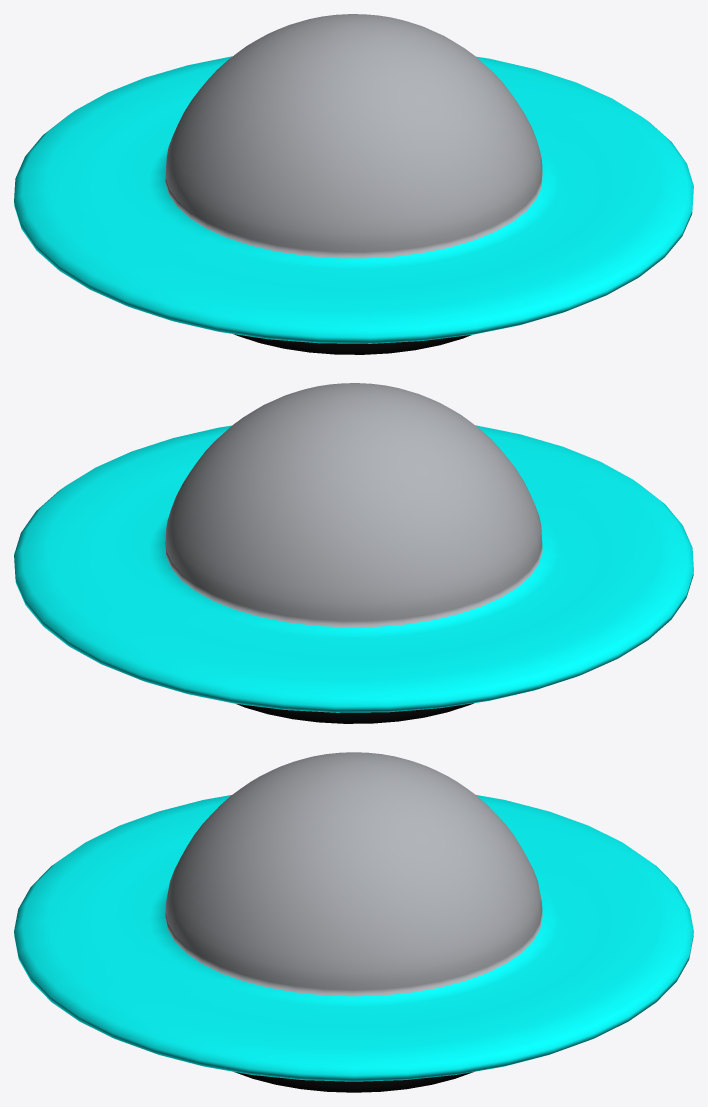
File: enenave.glb
3 views of the same model, one above another, from view 1: azimuth 30°, elevation 25°; view 2: azimuth 150°, elevation 25°; view 3: azimuth 270°, elevation 25° (orthographic).
Visible parts, largest first — view 1: pSphere1; view 2: pSphere1; view 3: pSphere1.
Boxes of the visible parts, x1,y1,x2,y2 form: pSphere1: [14, 14, 693, 354]; pSphere1: [14, 383, 693, 723]; pSphere1: [14, 752, 693, 1092].
Bounding box in the file's own units: 17.97 × 7.51 × 17.97.
